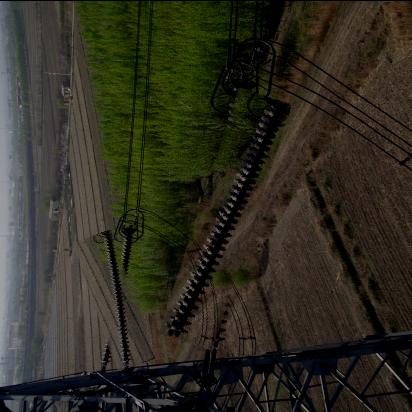insulator: (180, 89, 274, 350), (84, 231, 146, 371)
